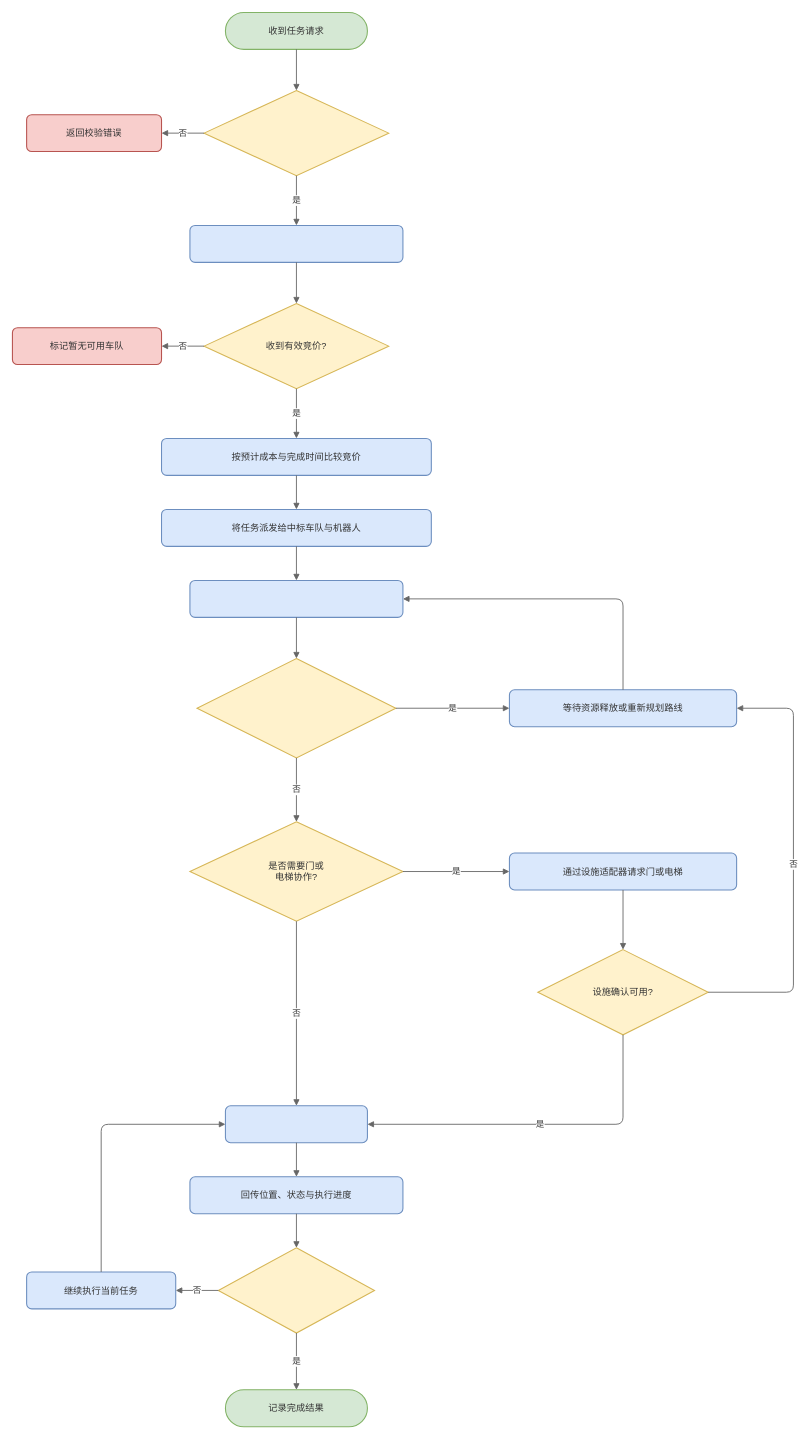
Image size: 812x1440. Some labels were removed from this diagram. The shapes that lost their labels are listed below. From the top down, each one's centre as x and y in pixels, then its label:
At pixel 296 133: "任务信息有效?".
At pixel 296 244: "向可用车队发送竞价请求".
At pixel 296 599: "规划路线并申请通行时隙".
At pixel 296 708: "通道或门梯 资源冲突?".
At pixel 296 1124: "机器人执行任务".
At pixel 296 1290: "任务已完成?".
